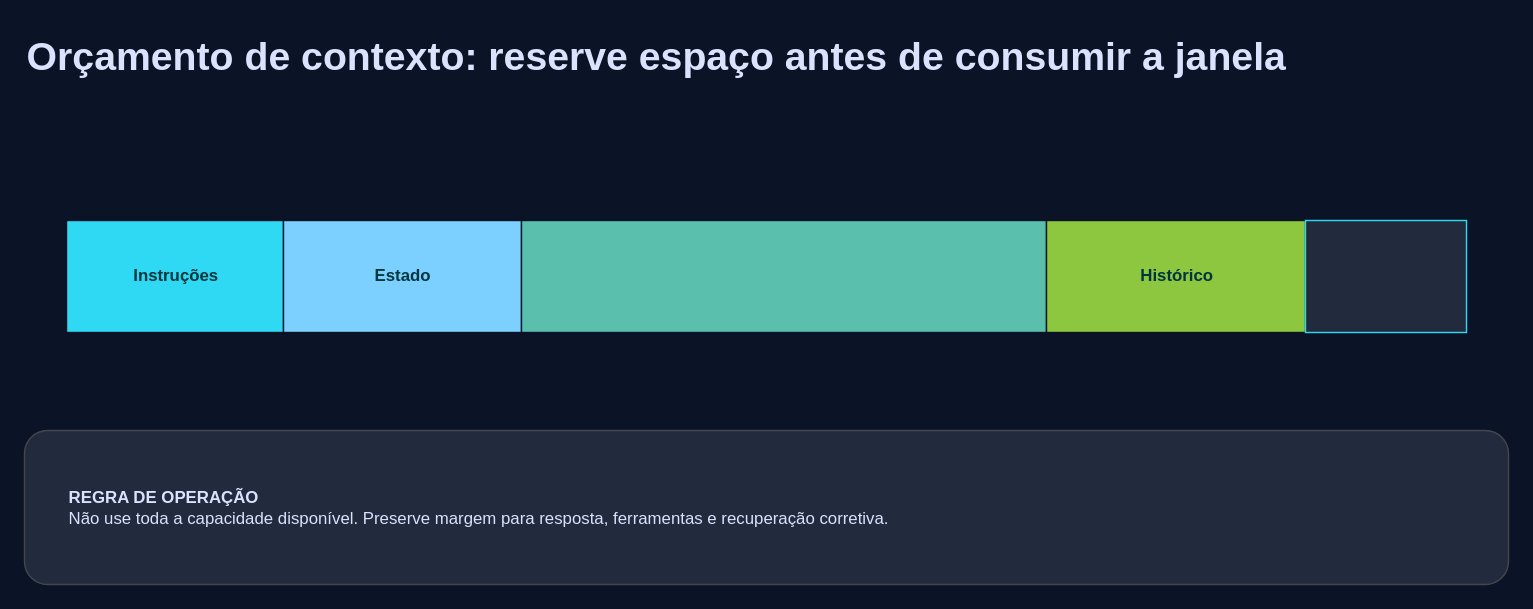
The diagram is 1533 pixels wide and 609 high, and some of its shapes have lost their labels. The shapes that lost their labels are listed below. From the top down, each one's centre as x and y in pixels, then its label:
the point at 783,275: Evidências
the point at 1385,275: Reserva
